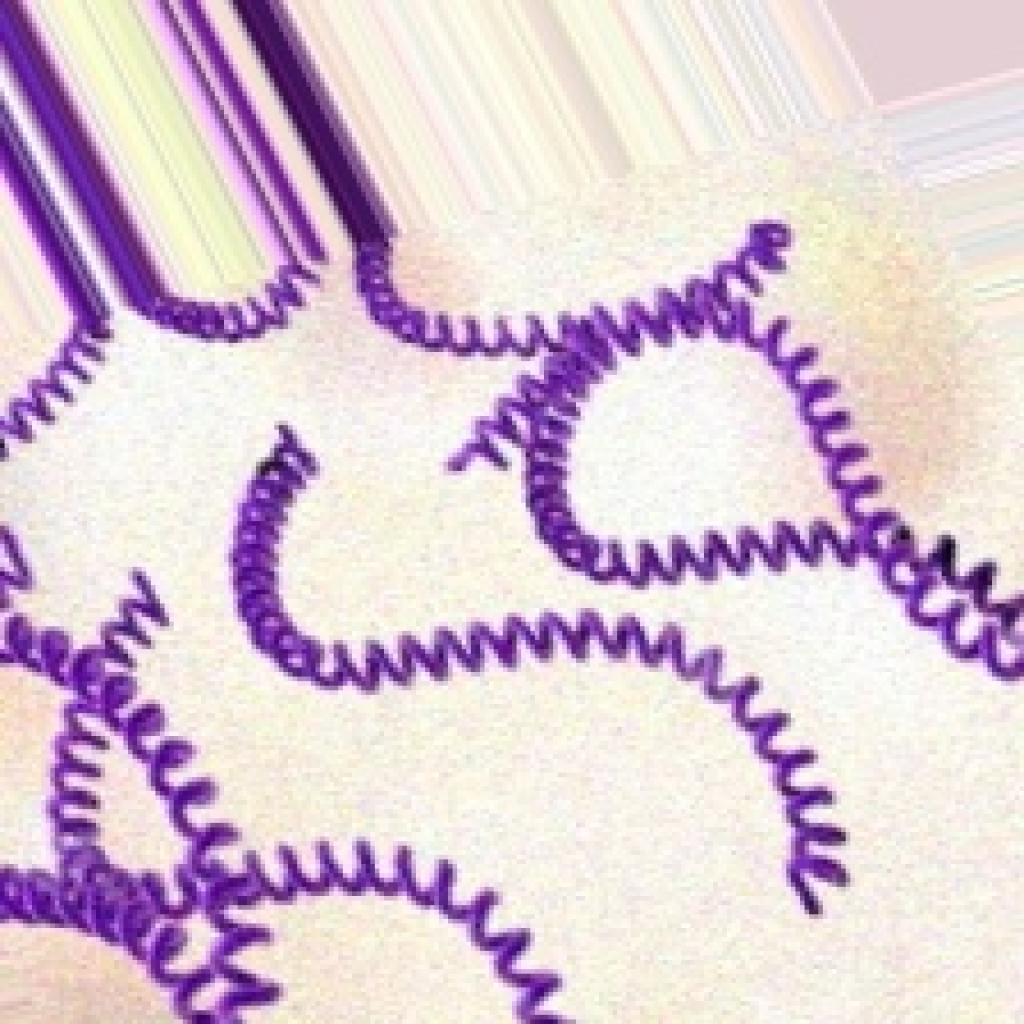Sprialbacteria: (0, 0, 1019, 1019)
